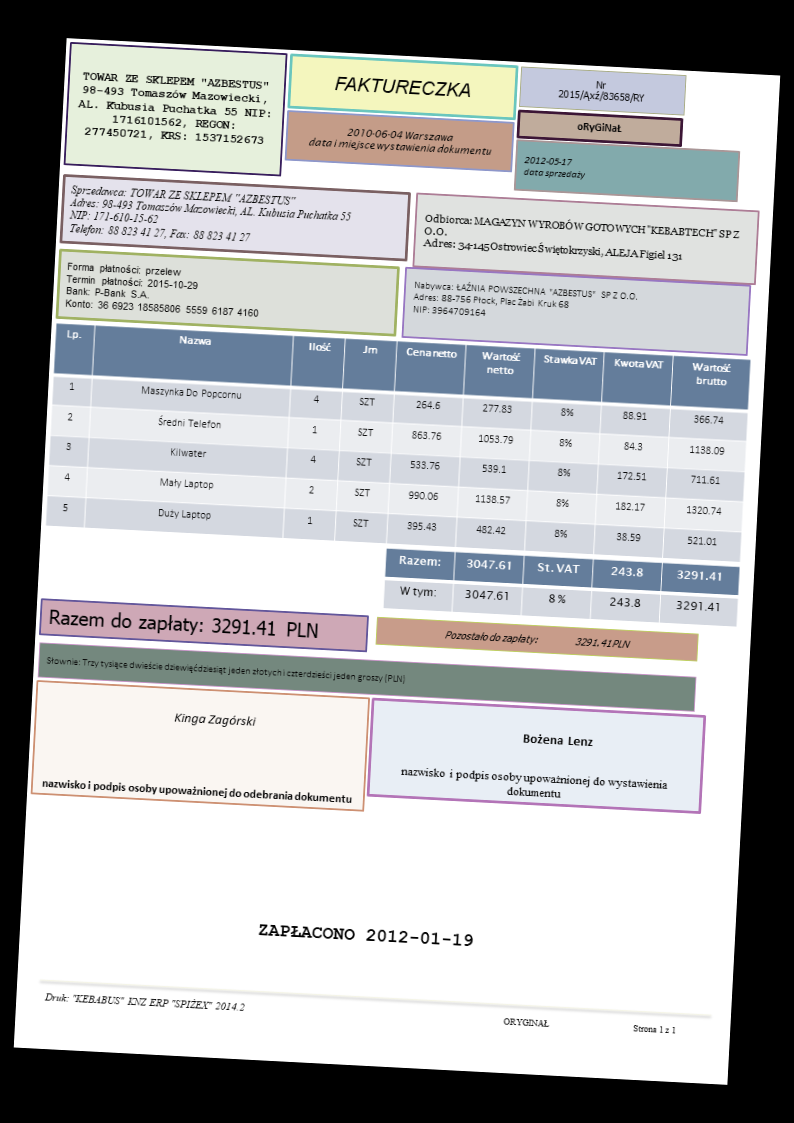Table: (45, 321, 752, 563), (382, 546, 740, 628)
TextBox: (67, 181, 353, 249), (421, 211, 741, 267), (74, 69, 274, 146), (63, 260, 264, 320), (45, 654, 407, 687), (409, 277, 640, 328), (399, 764, 669, 806), (39, 774, 352, 806), (48, 605, 320, 641), (306, 124, 495, 158), (257, 920, 475, 949), (42, 989, 248, 1015), (442, 627, 633, 653), (501, 1014, 677, 1037), (332, 72, 474, 100), (556, 76, 648, 105), (171, 708, 258, 730), (522, 153, 587, 181), (521, 731, 596, 750), (575, 119, 624, 135)
